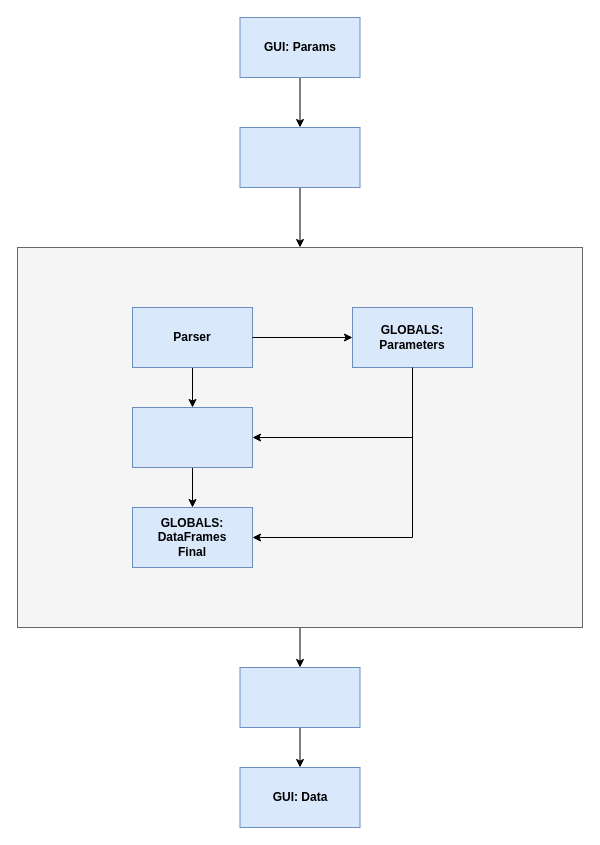
The diagram is 600 pixels wide and 845 high, and some of its shapes have lost their labels. The centre of each missing label's shape, as x and y in pixels:
"GLOBALS: DataFrames Initial" goes at pixel 192 437.
"Input:Json" goes at pixel 299 157.
"Text Data" goes at pixel 299 697.
